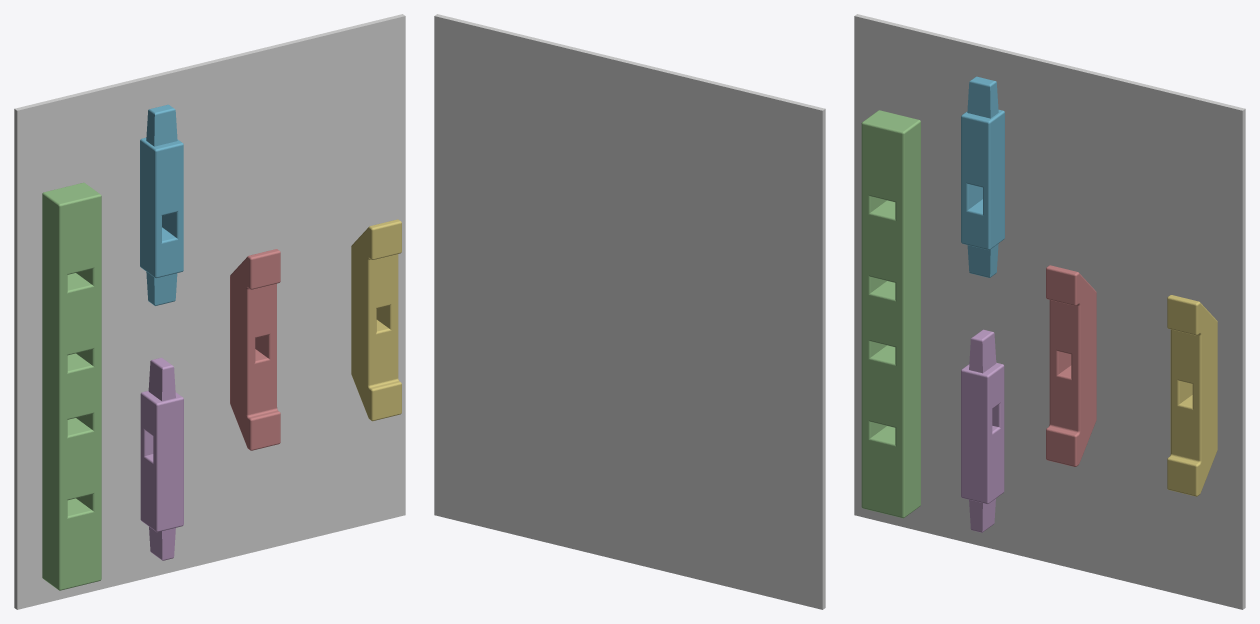
Rendered from pickup_layout.glb.
3 renders of one model, left to right at view 1: azimuth 30°, elevation 25°; view 2: azimuth 150°, elevation 25°; view 3: azimuth 330°, elevation 25°, orthographic.
Visible parts, largest first — view 1: world, 6.obj, 1.obj, 0.obj, 2.obj, 3.obj; view 2: world; view 3: world, 6.obj, 1.obj, 0.obj, 2.obj, 3.obj.
Part boxes in pixels (x1,y1,x2,y2): world: (14,14,405,609); 6.obj: (42,182,101,590); 1.obj: (351,219,401,421); 0.obj: (230,249,280,450); 2.obj: (140,104,183,305); 3.obj: (140,357,183,560); world: (434,14,825,609); world: (854,14,1245,609); 6.obj: (861,110,920,518); 1.obj: (1167,295,1217,496); 0.obj: (1046,265,1096,466); 2.obj: (961,76,1004,277); 3.obj: (961,329,1004,532).
Size of the model in its own units: 16.02 by 19.68 by 1.72.
